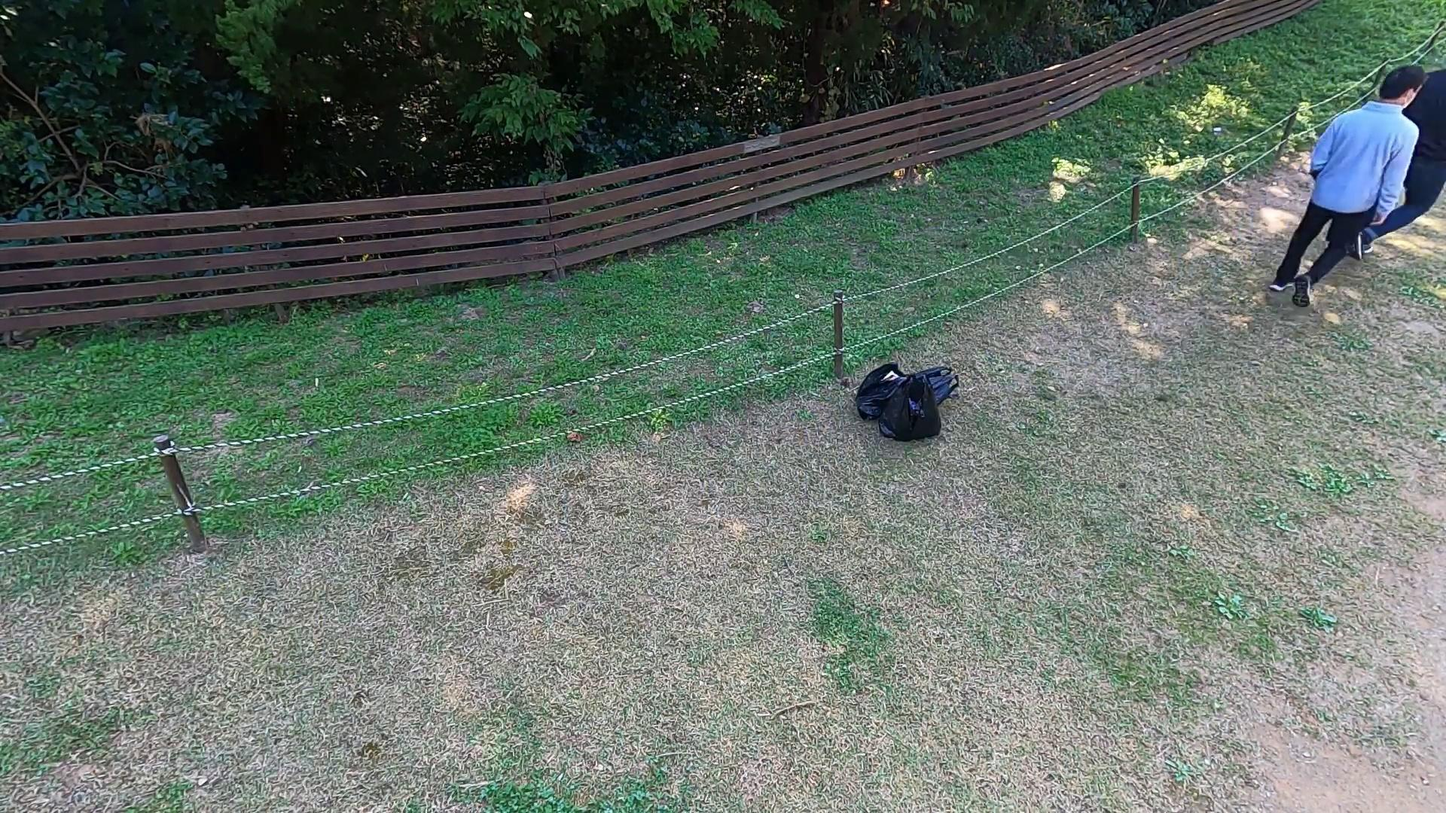person: (1272, 56, 1419, 333), (1351, 48, 1446, 267)
trash: (881, 373, 947, 444), (856, 356, 908, 421), (909, 357, 956, 411)
